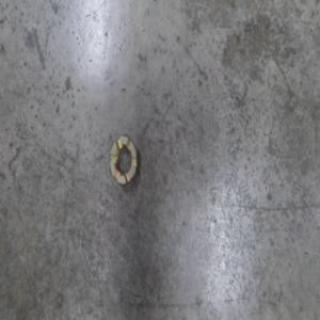Nuttrack_idkeyframe: (107, 130, 139, 186)
